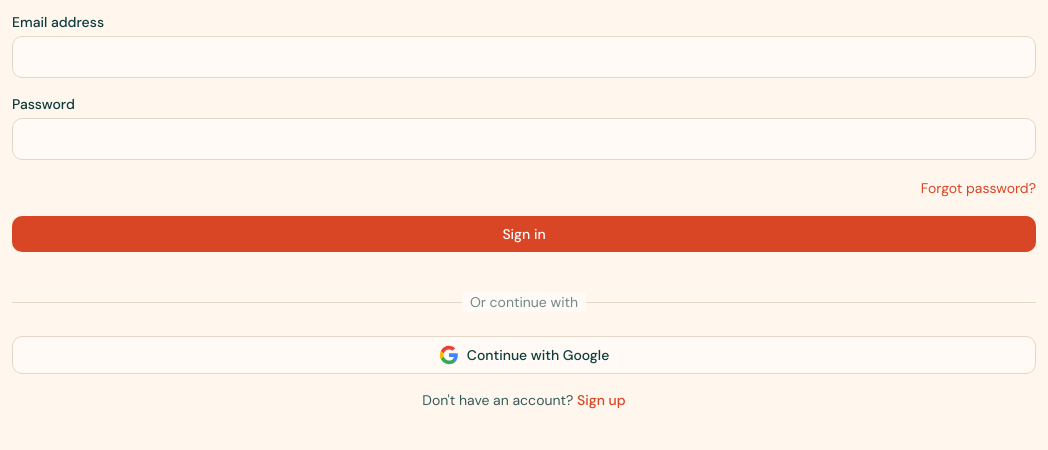
components/auth/LoginForm › shows validation error for invalid email
Type "notanemail" into the field labelled "Email address" at (524, 57), box [12,36,1036,78]
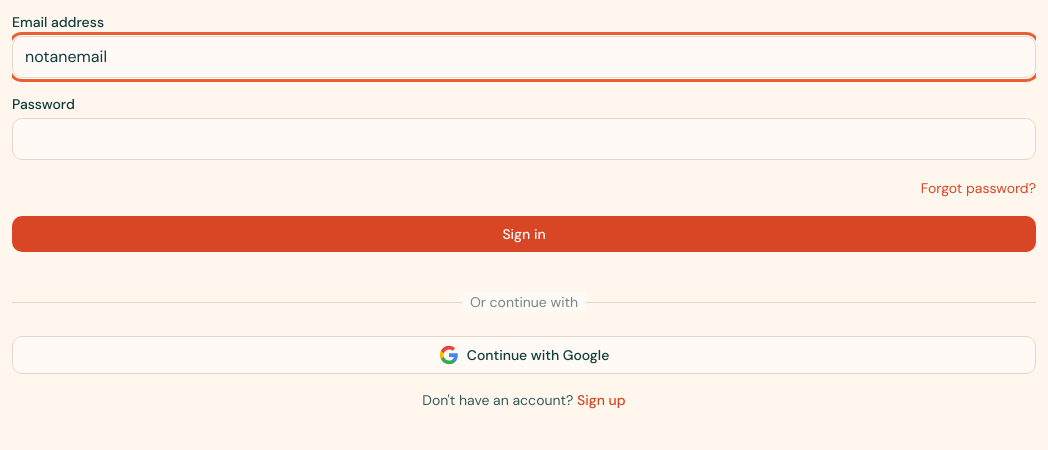
Type "Password1" into the password field labelled "Password" at (524, 139), box [12,118,1036,160]
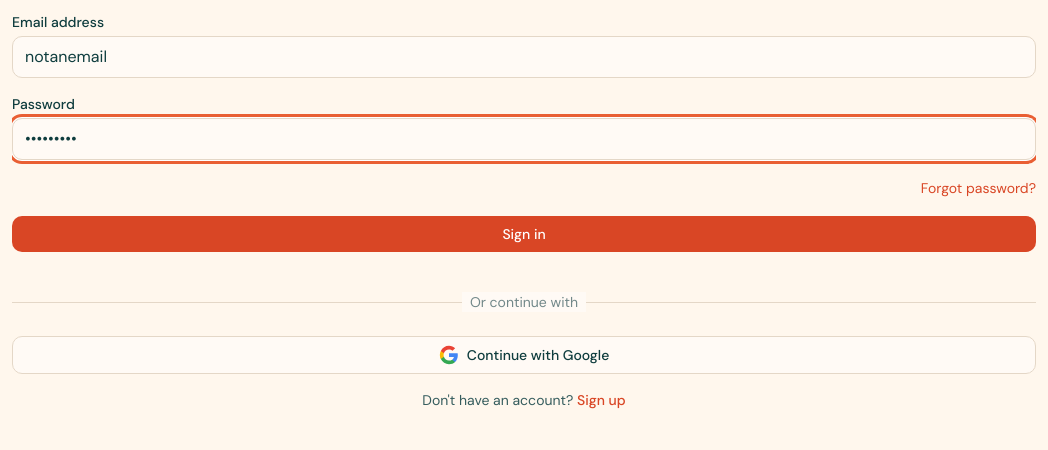
Click the button "Sign in" at (524, 234), box [12,216,1036,252]
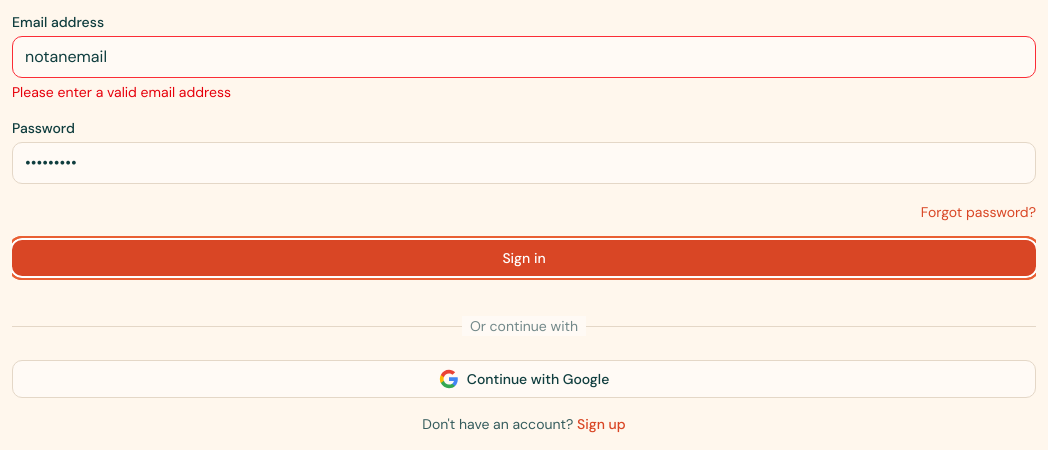
Now the text "Please enter a valid email address" is shown, box [12,83,231,101]
